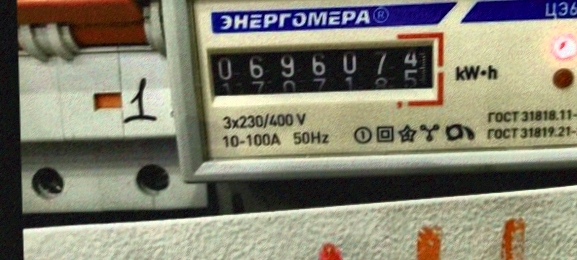0: (214, 54, 233, 80), (340, 48, 357, 74)
4: (402, 45, 417, 67)
5: (403, 67, 417, 87)
6: (245, 52, 264, 78), (309, 49, 326, 76)
7: (371, 48, 388, 75)
9: (277, 52, 295, 78)
screen: (200, 29, 448, 112)
